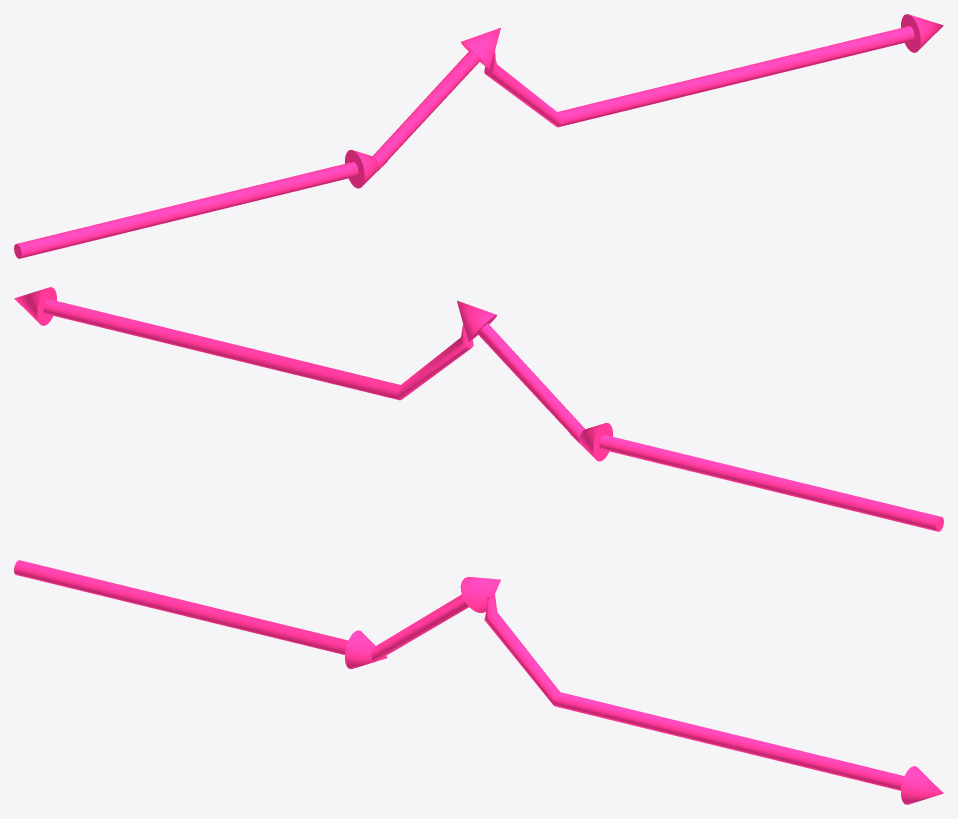
Rendered from magnetic_coupling_flow.glb.
3 views of the same model, one above another, from view 1: azimuth 30°, elevation 25°; view 2: azimuth 150°, elevation 25°; view 3: azimuth 330°, elevation 25° (orthographic).
Visible parts, largest first — view 1: torque_path; view 2: torque_path; view 3: torque_path.
Part boxes in pixels (x1,y1,x2,y2): torque_path: (14, 14, 943, 258); torque_path: (14, 287, 943, 531); torque_path: (14, 560, 943, 804).
Size of the model in its own units: 1.12 by 0.1428 by 0.0416.
